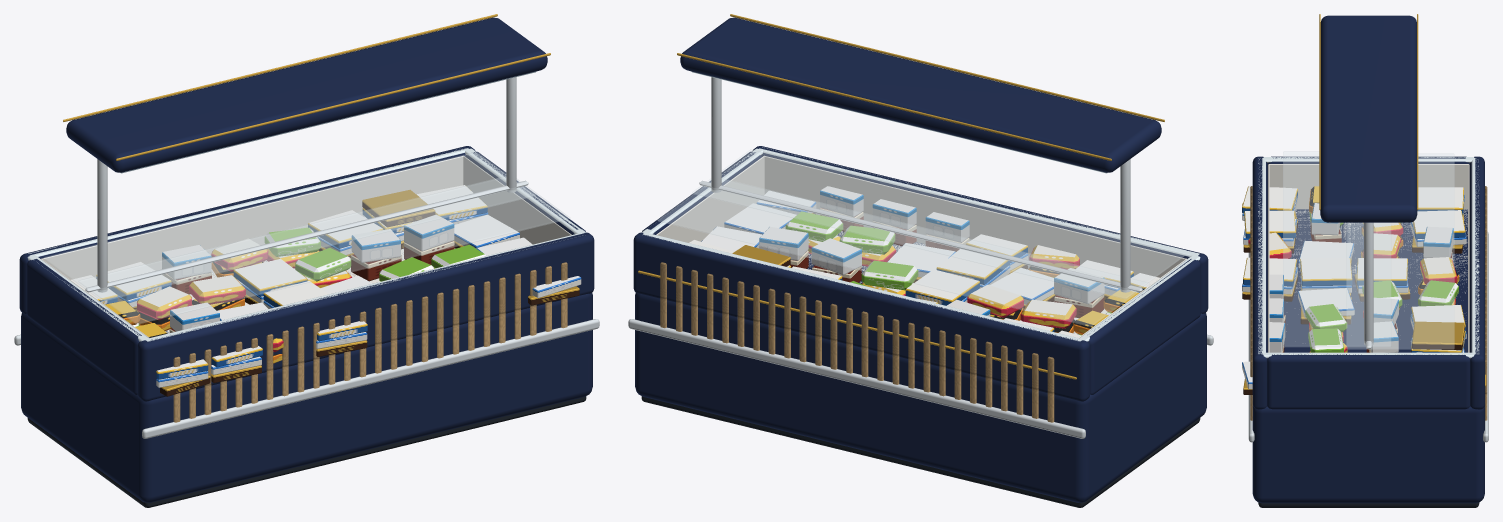
File: freezer_T4.fbx
The picture shows the model from 3 angles, left to right: view 1: azimuth 30°, elevation 25°; view 2: azimuth 150°, elevation 25°; view 3: azimuth 270°, elevation 25°; orthographic projection. The views are drawn at different scales.
Parts seen in each view (by area): view 1: Body, Anim Fill 2, Anim Fill 0, Anim Fill 3, Anim Fill 1; view 2: Body, Anim Fill 1, Anim Fill 2, Anim Fill 0, Anim Fill 3; view 3: Body, Anim Fill 2, Anim Fill 3, Anim Fill 1, Anim Fill 0.
Boxes of the visible parts, x1,y1,x2,y2 form: Body: (14,14,599,507); Anim Fill 2: (162,238,367,363); Anim Fill 0: (362,185,581,305); Anim Fill 3: (71,262,262,396); Anim Fill 1: (264,210,434,294); Body: (628,14,1213,507); Anim Fill 1: (792,199,969,295); Anim Fill 2: (905,234,1079,320); Anim Fill 0: (689,186,863,268); Anim Fill 3: (1004,260,1159,337); Body: (1248,14,1488,507); Anim Fill 2: (1242,226,1459,301); Anim Fill 3: (1242,186,1466,253); Anim Fill 1: (1269,274,1466,342); Anim Fill 0: (1242,321,1465,394).
Bounding box in the file's own units: 2.5 × 1.71 × 1.27.
